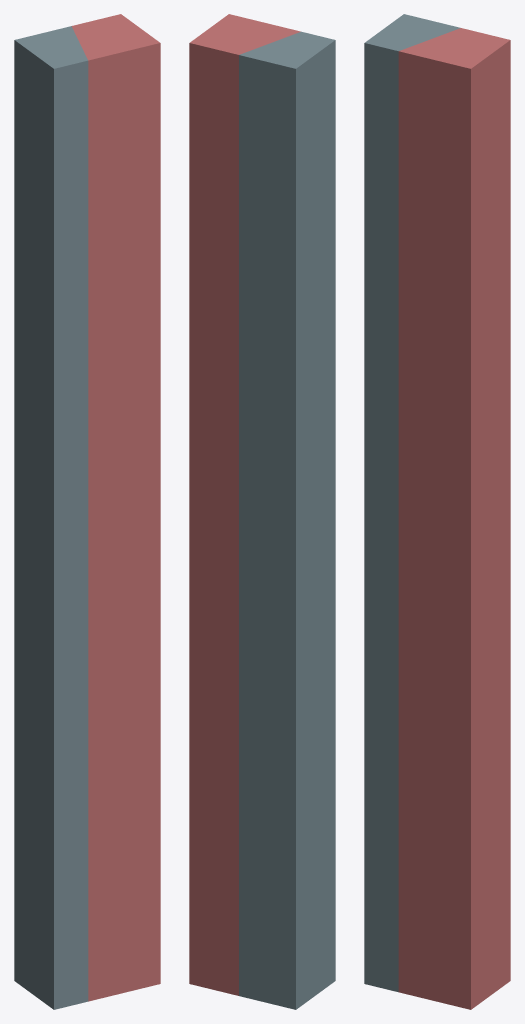
Rendered from step_03.glb.
The picture shows the model from 3 angles, left to right: view 1: azimuth 30°, elevation 25°; view 2: azimuth 150°, elevation 25°; view 3: azimuth 330°, elevation 25°; orthographic projection.
Visible parts, largest first — view 1: part__mitre post, removed__mitre post; view 2: part__mitre post, removed__mitre post; view 3: removed__mitre post, part__mitre post.
Boxes of the visible parts, x1=… form: part__mitre post: x1=14, y1=26, x2=88, y2=1009; removed__mitre post: x1=71, y1=14, x2=160, y2=1001; part__mitre post: x1=239, y1=31, x2=335, y2=1009; removed__mitre post: x1=189, y1=14, x2=300, y2=995; removed__mitre post: x1=398, y1=28, x2=510, y2=1009; part__mitre post: x1=364, y1=14, x2=460, y2=992.
Size of the model in its own units: 700 by 5910 by 450.
